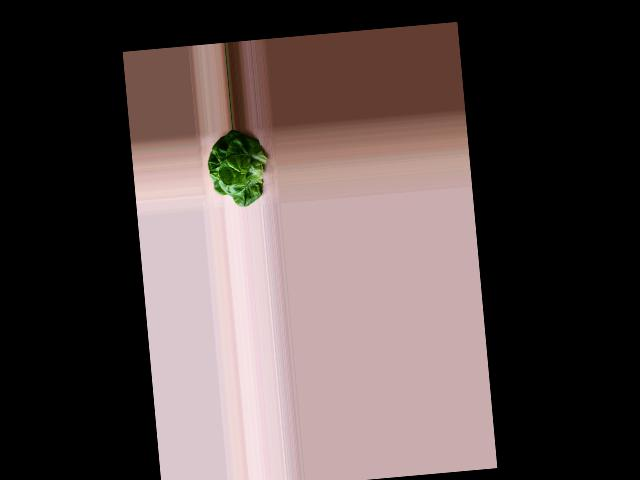lettuce: (205, 128, 268, 207)
